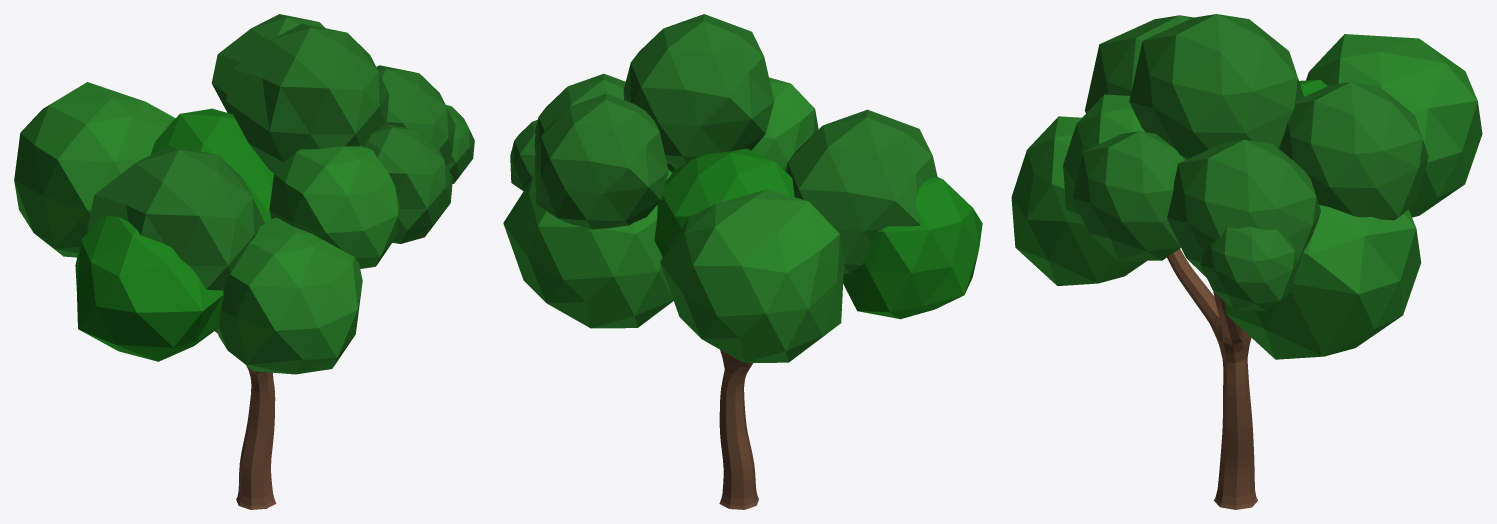
The model's file is tree.fbx.
The picture shows the model from 3 angles, left to right: view 1: azimuth 30°, elevation 25°; view 2: azimuth 150°, elevation 25°; view 3: azimuth 270°, elevation 25°; orthographic projection. The views are drawn at different scales.
Visible parts, largest first — view 1: Icosphere.001, Icosphere, Icosphere.002, Plane; view 2: Icosphere.001, Icosphere, Icosphere.002, Plane; view 3: Icosphere.001, Icosphere, Plane.
Boxes of the visible parts, box(x1,y1,x2,y2) form: Icosphere.001: box(87, 14, 474, 290); Icosphere: box(14, 82, 399, 374); Icosphere.002: box(75, 108, 273, 361); Plane: box(215, 294, 318, 509); Icosphere.001: box(510, 14, 937, 273); Icosphere: box(503, 77, 844, 362); Icosphere.002: box(654, 148, 982, 319); Plane: box(719, 350, 758, 509); Icosphere.001: box(1072, 14, 1428, 310); Icosphere: box(1011, 34, 1482, 359); Plane: box(1026, 171, 1257, 509).
Bounding box in the file's own units: 900 × 958 × 799.
